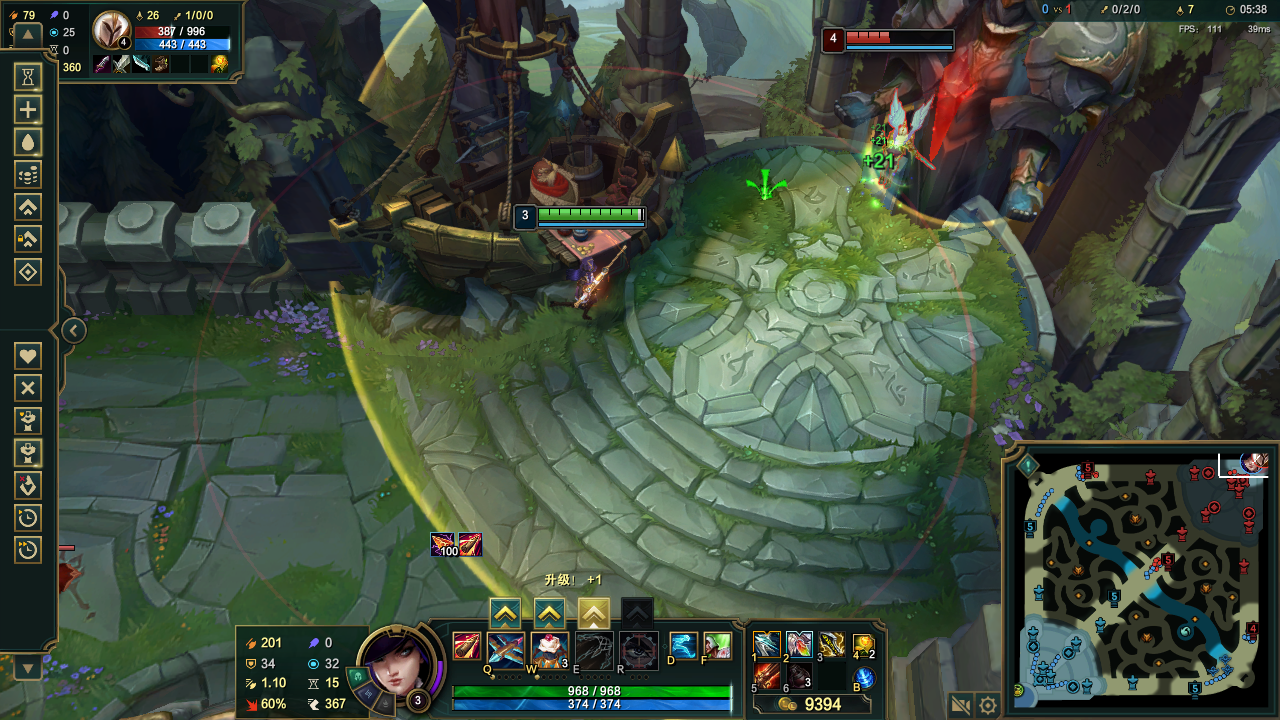DFYX: (842, 30, 954, 42)
